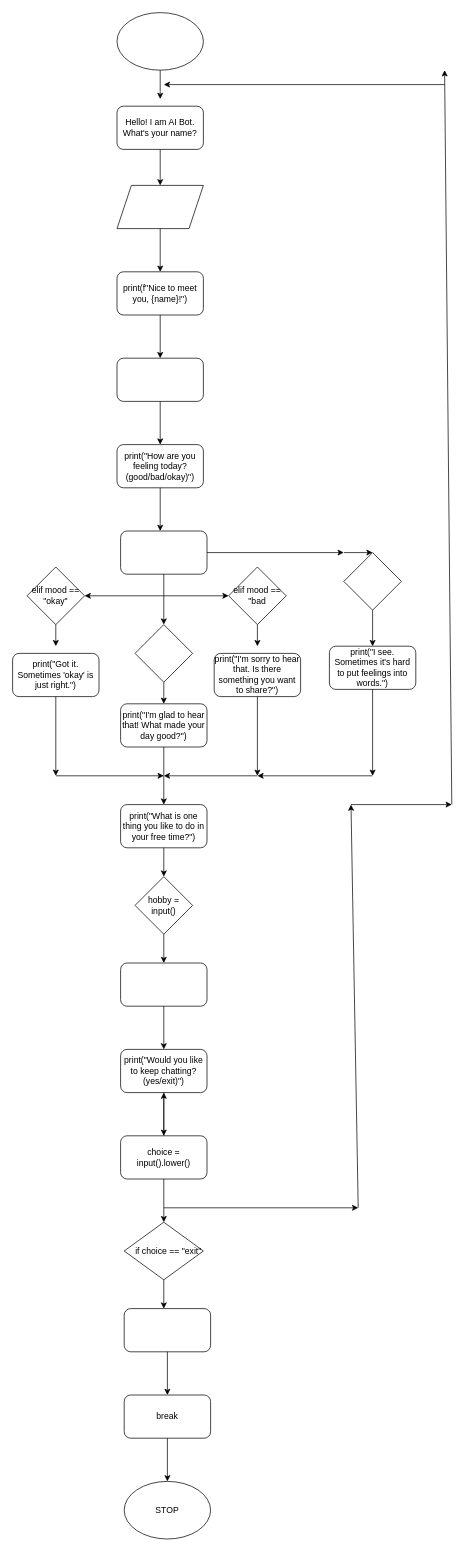
Some shapes in this 470 by 1552 pixel diagram are drawn without their labels. The box of each missing label's shape, as (x1, y1, x2, y2) in pixels:
else: (343, 552, 401, 610)
if mood == "good: (134, 624, 193, 682)
mood = input().lower(): (120, 530, 207, 574)
name = input(): (116, 185, 203, 229)
print(f"It was nice chatting with you, {name}. Goodbye!"): (123, 1308, 211, 1352)
print(f"That sounds fun! {hobby} is a great way to spend time."): (120, 962, 207, 1006)
START: (116, 12, 203, 70)
While loop starts: (116, 357, 203, 401)
